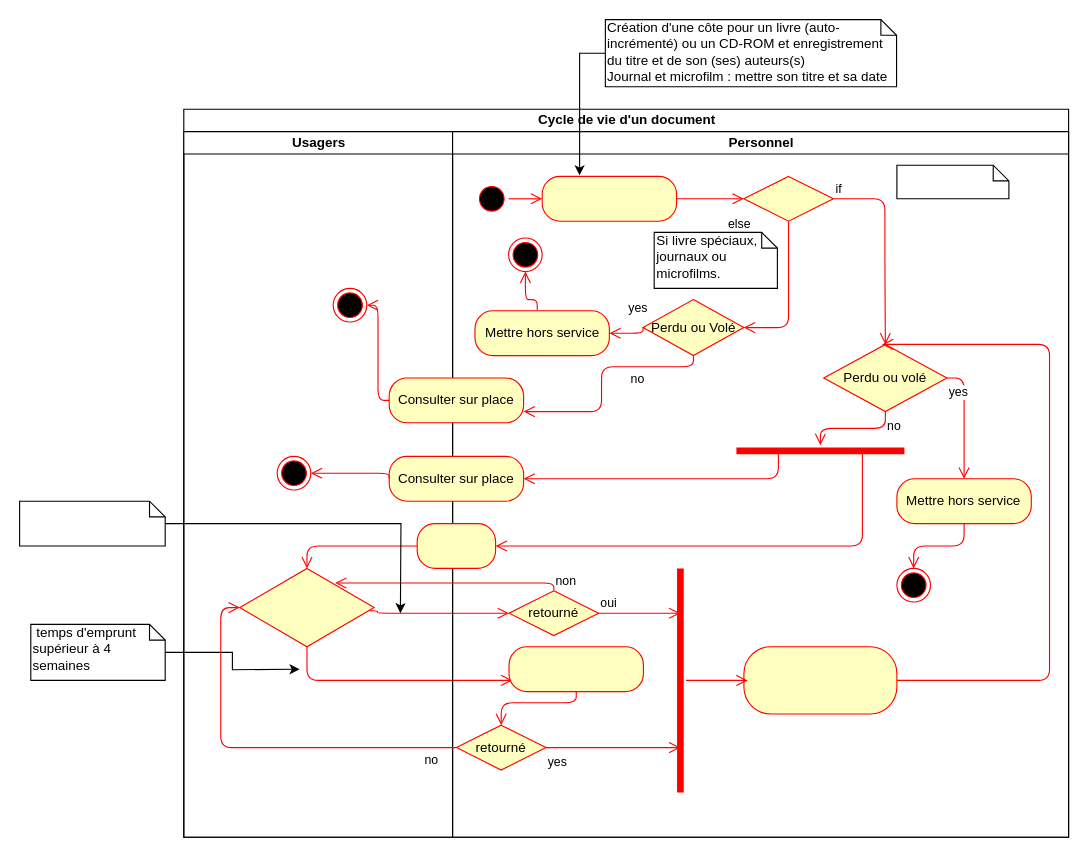
This 1089x857 diagram has some shape labels left out. Here are the shapes that lost their labels. From the top down, the centre of each, then its label:
point (609, 198): Enregistrer un nouveau document
point (952, 181): Si CD-ROM ou Livre
point (91, 523): Si temps d'emprunt inférieur à 4 semaines
point (456, 545): Emprunter
point (306, 607): temps d'emprunt
point (575, 669): Relancer l'usager
point (820, 680): enregistrer la (les) ressources(s) récupérée(s)
